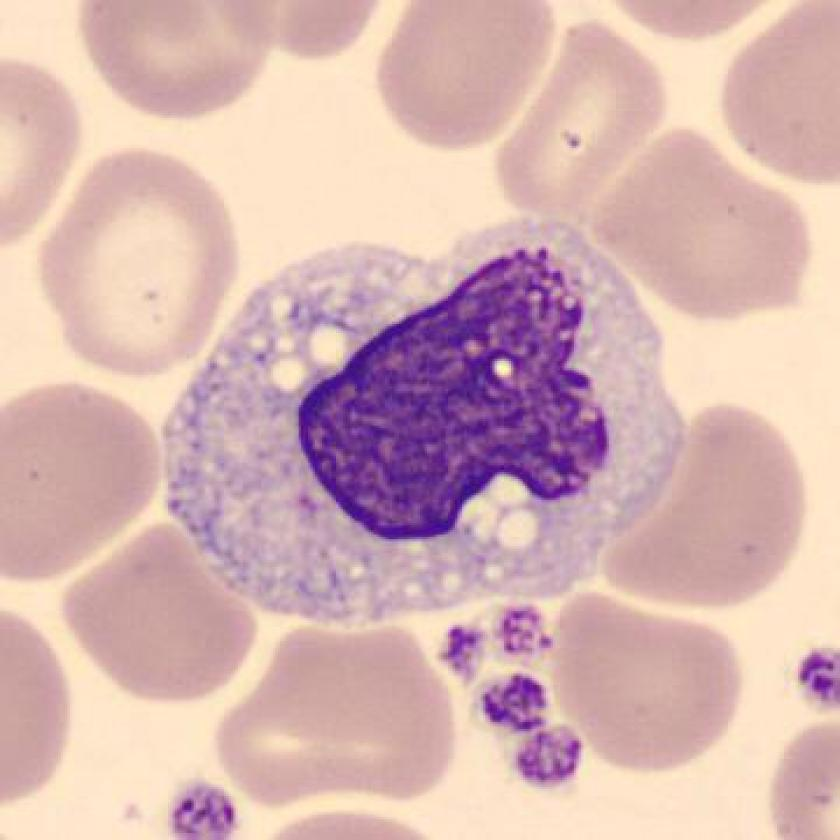monocyte: (139, 198, 703, 642)
